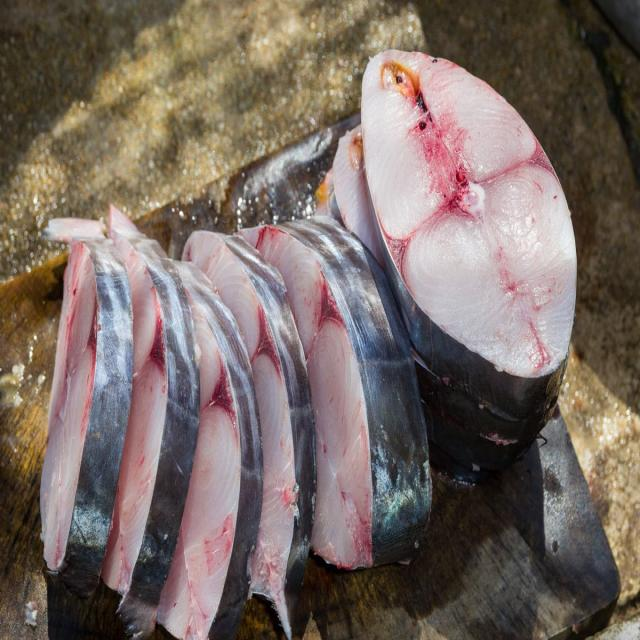Mackerel: (360, 52, 576, 478), (242, 218, 431, 569), (184, 231, 316, 638), (101, 206, 199, 638), (156, 262, 262, 638), (40, 219, 132, 596)
